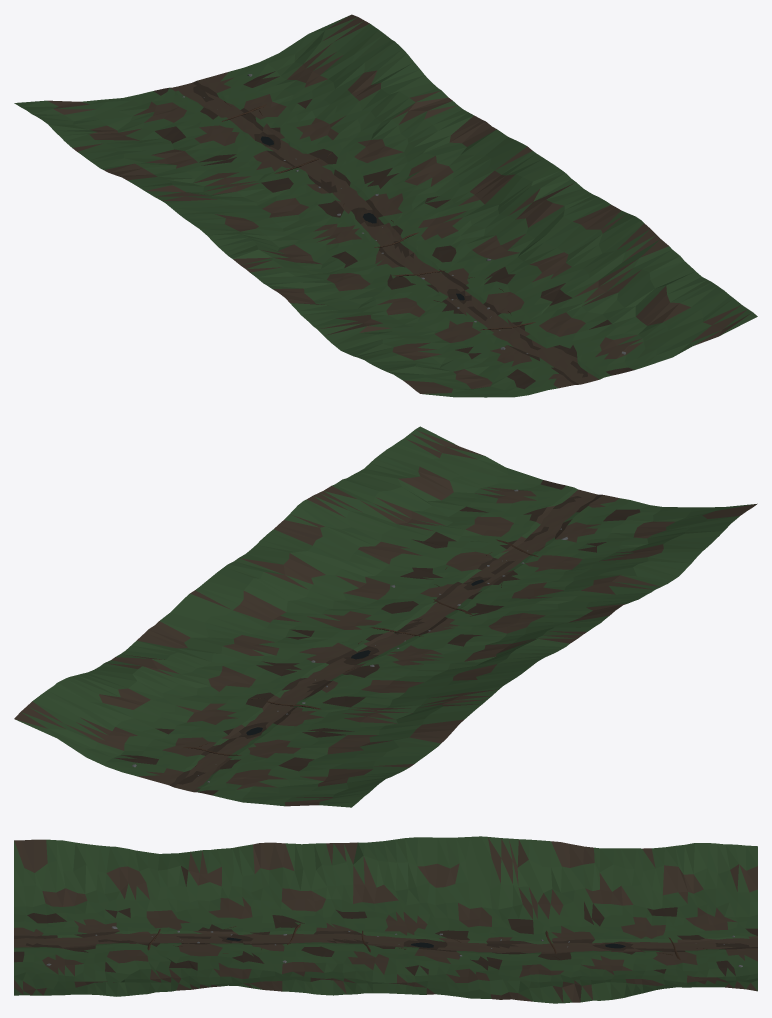
File: forest_ground.glb
The picture shows the model from 3 angles, top to bottom: view 1: azimuth 30°, elevation 25°; view 2: azimuth 150°, elevation 25°; view 3: azimuth 270°, elevation 25°; orthographic projection. The views are drawn at different scales.
Parts seen in each view (by area): view 1: ground_moss, ground_litter, path, ground_mud, path_mud; view 2: ground_moss, ground_litter, path, ground_mud, path_mud; view 3: ground_moss, ground_litter, path, ground_mud, path_mud, roots.
Boxes of the visible parts, x1,y1,x2,y2 form: ground_moss: [14, 15, 757, 397]; ground_litter: [47, 14, 750, 393]; path: [173, 83, 599, 384]; ground_mud: [154, 71, 634, 389]; path_mud: [193, 86, 587, 377]; ground_moss: [15, 426, 755, 807]; ground_litter: [14, 430, 756, 806]; path: [174, 489, 597, 791]; ground_mud: [114, 480, 640, 795]; path_mud: [178, 496, 581, 784]; ground_moss: [14, 836, 757, 1003]; ground_litter: [14, 837, 757, 1002]; path: [14, 933, 757, 953]; ground_mud: [14, 901, 757, 976]; path_mud: [26, 934, 749, 951]; roots: [147, 923, 680, 960].
Bounding box in the file's own units: 24 × 2.53 × 50.
